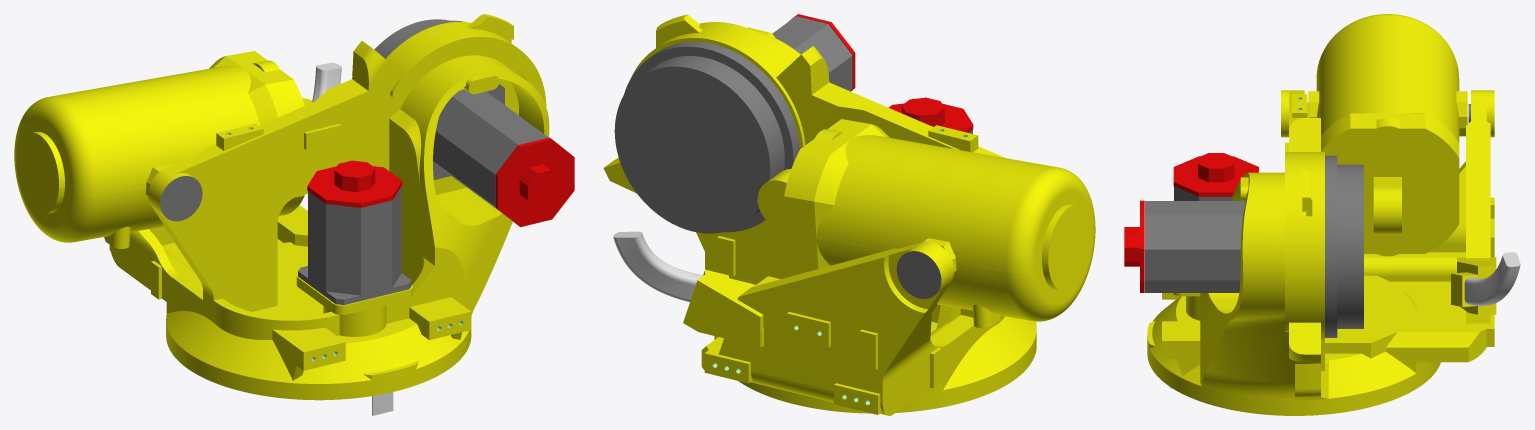
3 renders of one model, left to right at view 1: azimuth 30°, elevation 25°; view 2: azimuth 150°, elevation 25°; view 3: azimuth 270°, elevation 25°, orthographic. The views are drawn at different scales.
Parts seen in each view (by area): view 1: Mesh_0; view 2: Mesh_0; view 3: Mesh_0.
Part boxes in pixels (x1,y1,x2,y2): Mesh_0: (14,14,574,415); Mesh_0: (603,14,1095,415); Mesh_0: (1124,14,1520,415).
Size of the model in its own units: 1.09 by 0.8058 by 0.6599.
